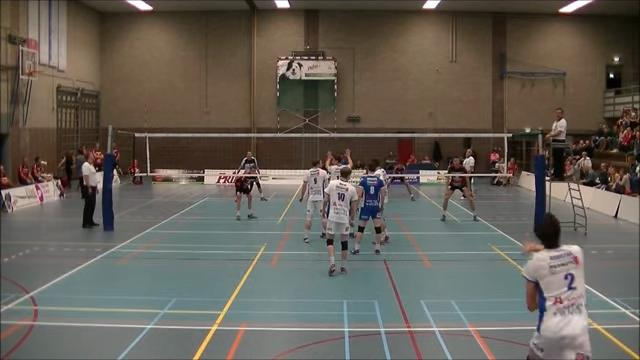Player: (510, 210, 607, 359), (323, 167, 357, 275), (351, 163, 386, 254), (299, 160, 327, 242), (441, 157, 477, 220), (235, 176, 255, 219), (325, 149, 352, 180), (325, 149, 352, 179), (237, 151, 259, 173), (398, 176, 414, 200), (381, 212, 389, 243)
